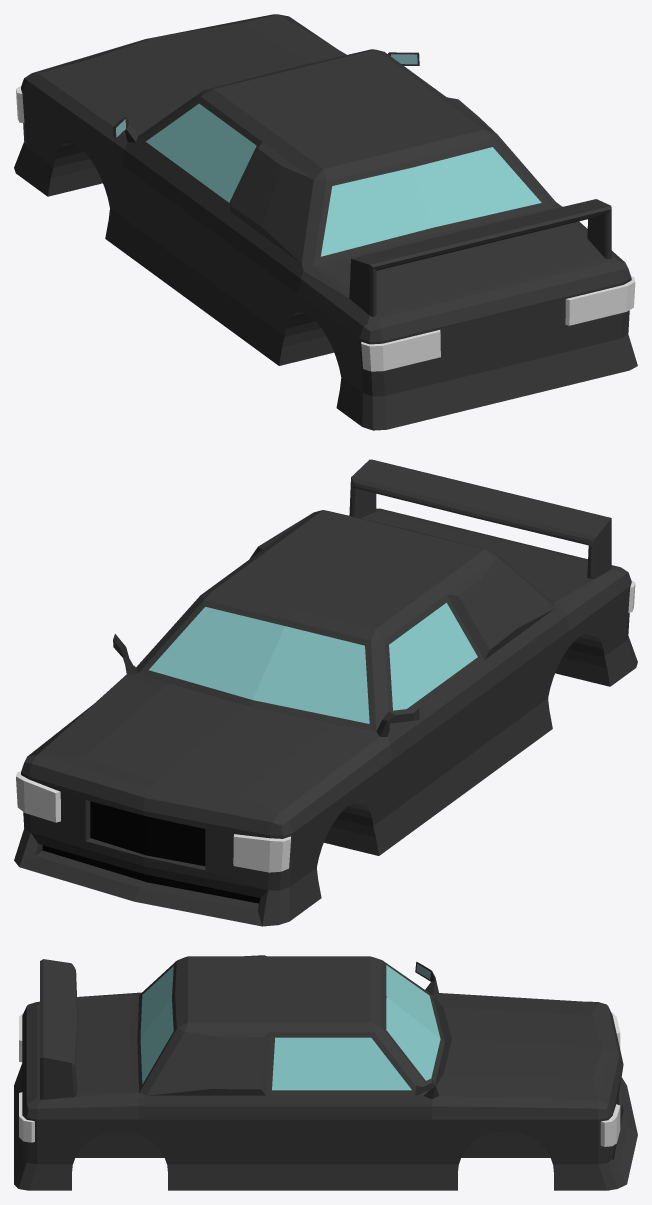
The model's file is Sedan.fbx.
3 renders of one model, top to bottom at view 1: azimuth 30°, elevation 25°; view 2: azimuth 150°, elevation 25°; view 3: azimuth 270°, elevation 25°, orthographic. The views are drawn at different scales.
Parts seen in each view (by area): view 1: Sedan; view 2: Sedan; view 3: Sedan.
Boxes of the visible parts, left/top/right/bottom form: Sedan: left=14, top=14, right=637, bottom=430; Sedan: left=14, top=459, right=637, bottom=926; Sedan: left=14, top=955, right=637, bottom=1190.
Size of the model in its own units: 390 by 214 by 831.
